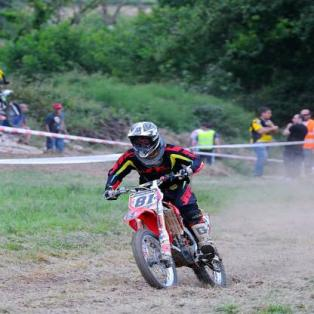Motocicleta: (92, 168, 245, 301)
